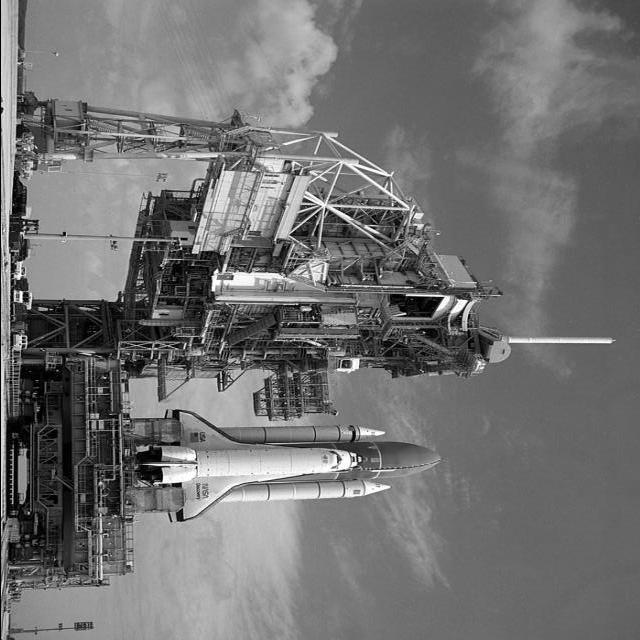missile: (156, 445, 366, 482), (211, 472, 409, 503), (216, 419, 388, 447), (500, 334, 628, 347)
